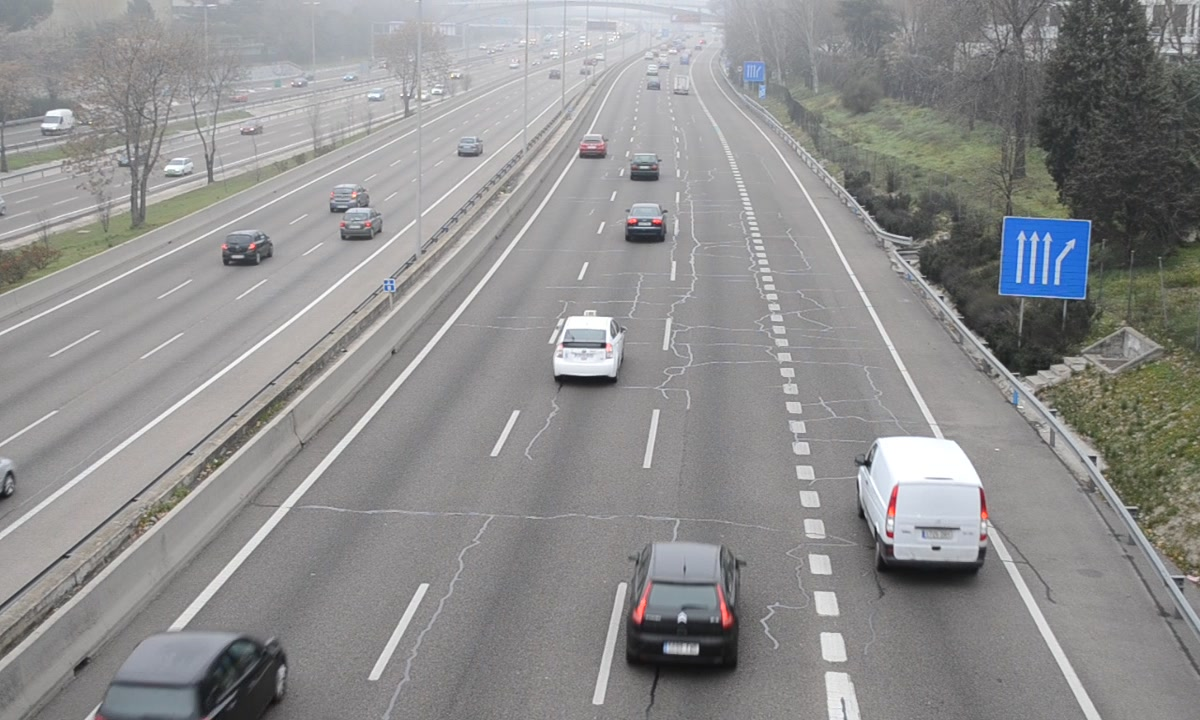car: (96, 630, 282, 720), (625, 541, 743, 670), (552, 315, 620, 380), (626, 201, 666, 240), (629, 150, 659, 179), (581, 132, 608, 159)
van: (859, 436, 989, 576)
